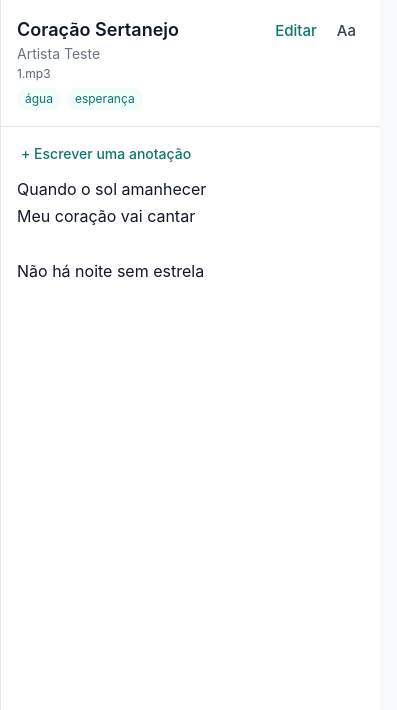
Test: LyricsPanel — modo de edição (V4 F10) › 'Usar estes dados' preenche o formulário (confirmando a sobrescrita da letra)
Expected: the text with test id "lyrics-body" is shown, [17,179,206,281]
Click the button "Editar". click: {"x": 296, "y": 31}
box: [267,16,325,46]
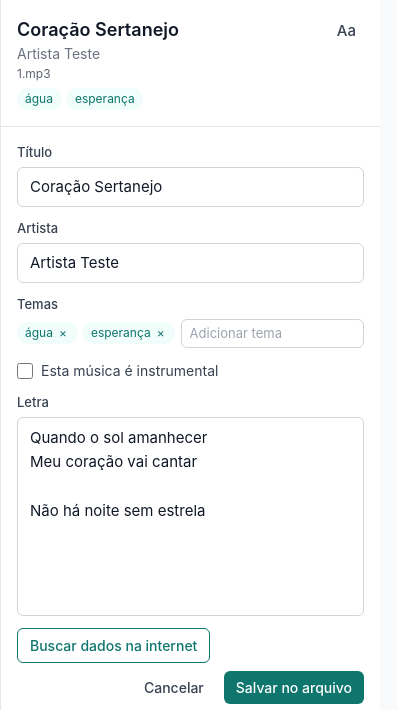
Click the button "Buscar dados na internet". click: {"x": 114, "y": 646}
box: [17,628,210,663]
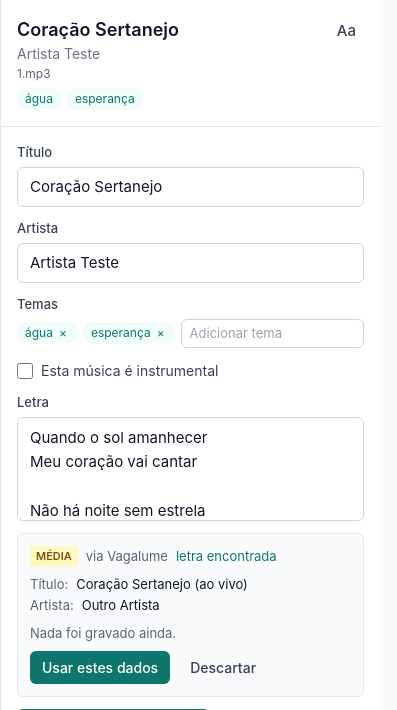
Click the button "Usar estes dados". click: {"x": 100, "y": 668}
box: [30,651,170,684]
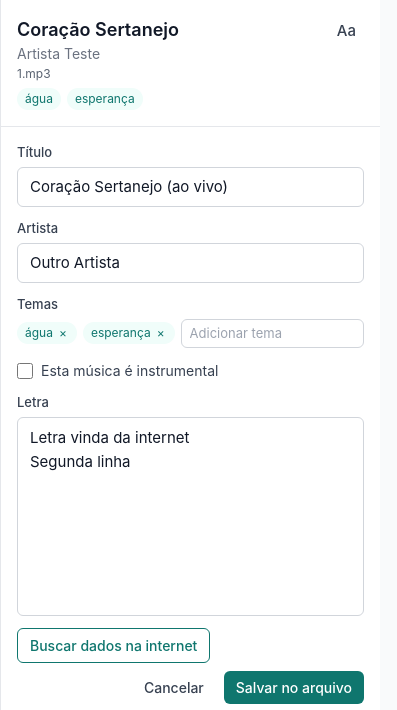
Result: the field labelled "Título" holds "Coração Sertanejo (ao vivo)" at [17,166,364,207]
Result: the field labelled "Artista" holds "Outro Artista" at [17,242,364,283]
